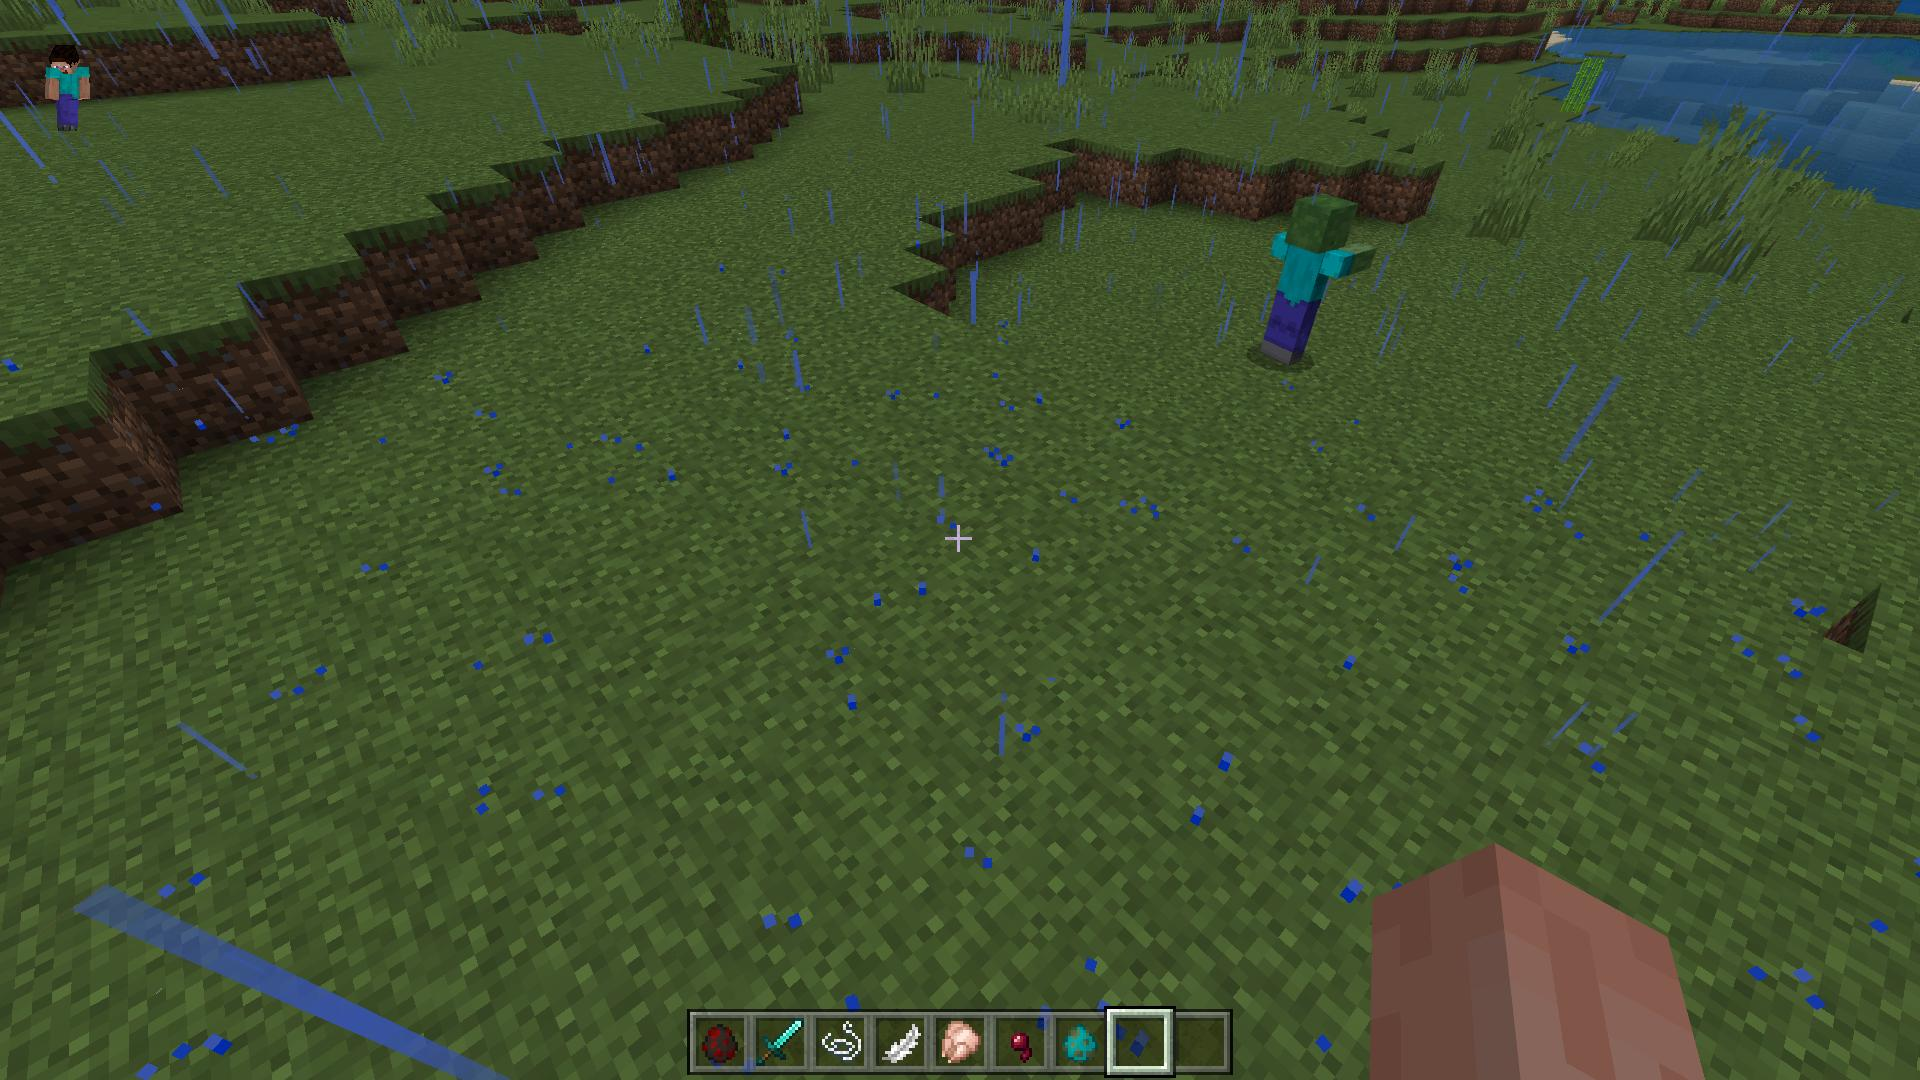zombie: (1253, 196, 1377, 367)
